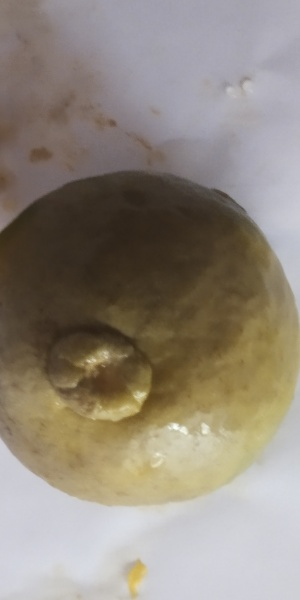BAD: (6, 158, 300, 515)
